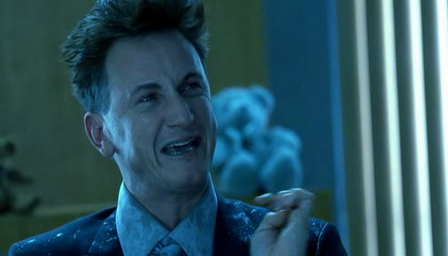cu: (1, 1, 448, 256)
face: (114, 44, 218, 189)
person: (1, 1, 349, 256)
